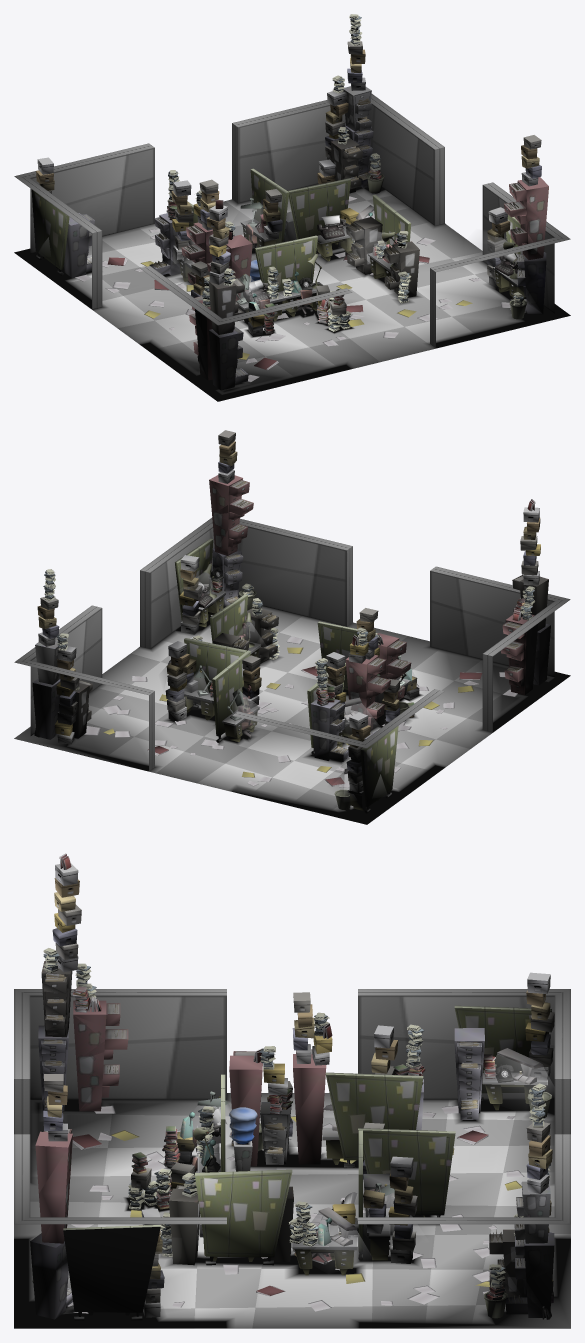
File: field_maze_quadrant7.glb
The picture shows the model from 3 angles, top to bottom: view 1: azimuth 30°, elevation 25°; view 2: azimuth 150°, elevation 25°; view 3: azimuth 270°, elevation 25°; orthographic projection. The views are drawn at different scales.
Parts seen in each view (by area): view 1: maze_floor, maze1_grouping1, maze2_grouping2, maze5_grouping5, maze6_grouping6, maze4_grouping4, maze8_grouping8, maze3_grouping3, maze7_grouping7a, maze9_floorPaperGrouping, maze6_floorShadow_grouping6, maze5_floorShadow_grouping5 (+9 smaller); view 2: maze_floor, maze5_grouping5, maze6_grouping6, maze1_grouping1, maze8_grouping8, maze3_grouping3, maze2_grouping2, maze9_floorPaperGrouping, maze4_grouping4, maze2_floorShadow_grouping2, maze7_grouping7a, maze6_floorShadow_grouping6 (+5 smaller); view 3: maze_floor, maze6_grouping6, maze2_grouping2, maze5_grouping5, maze8_grouping8, maze4_grouping4, maze1_grouping1, maze3_grouping3, maze9_floorPaperGrouping, maze5_floorShadow_grouping5, maze1_floorShadow_grouping1, maze7_grouping7a (+10 smaller).
Part boxes in pixels (x1,y1,x2,y2): maze_floor: (22,184,570,401); maze1_grouping1: (232,14,444,225); maze2_grouping2: (14,143,154,309); maze5_grouping5: (430,135,570,347); maze6_grouping6: (140,199,352,390); maze4_grouping4: (317,194,419,303); maze8_grouping8: (149,170,252,300); maze3_grouping3: (240,159,350,248); maze7_grouping7a: (236,235,323,335); maze9_floorPaperGrouping: (75,196,510,382); maze6_floorShadow_grouping6: (138,339,356,401); maze5_floorShadow_grouping5: (424,261,570,348); maze_floor: (14,606,558,824); maze5_grouping5: (140,430,352,648); maze6_grouping6: (430,499,570,732); maze1_grouping1: (14,569,154,770); maze8_grouping8: (307,608,414,761); maze3_grouping3: (165,638,261,742); maze2_grouping2: (232,689,444,813); maze9_floorPaperGrouping: (84,615,517,787); maze4_grouping4: (168,594,279,703); maze2_floorShadow_grouping2: (228,762,446,824); maze7_grouping7a: (317,621,419,701); maze6_floorShadow_grouping6: (424,643,570,733); maze_floor: (14,1093,570,1328); maze6_grouping6: (14,853,226,1134); maze2_grouping2: (358,972,570,1134); maze5_grouping5: (14,1074,226,1320); maze8_grouping8: (229,992,425,1168); maze4_grouping4: (160,1169,358,1275); maze1_grouping1: (358,1083,570,1319); maze3_grouping3: (358,1122,455,1263); maze9_floorPaperGrouping: (63,1105,524,1313); maze5_floorShadow_grouping5: (14,1235,233,1328); maze1_floorShadow_grouping1: (351,1235,570,1328); maze7_grouping7a: (162,1074,228,1174).
Size of the model in its own units: 51.03 by 25.35 by 51.
10 materials, 7 textured.
